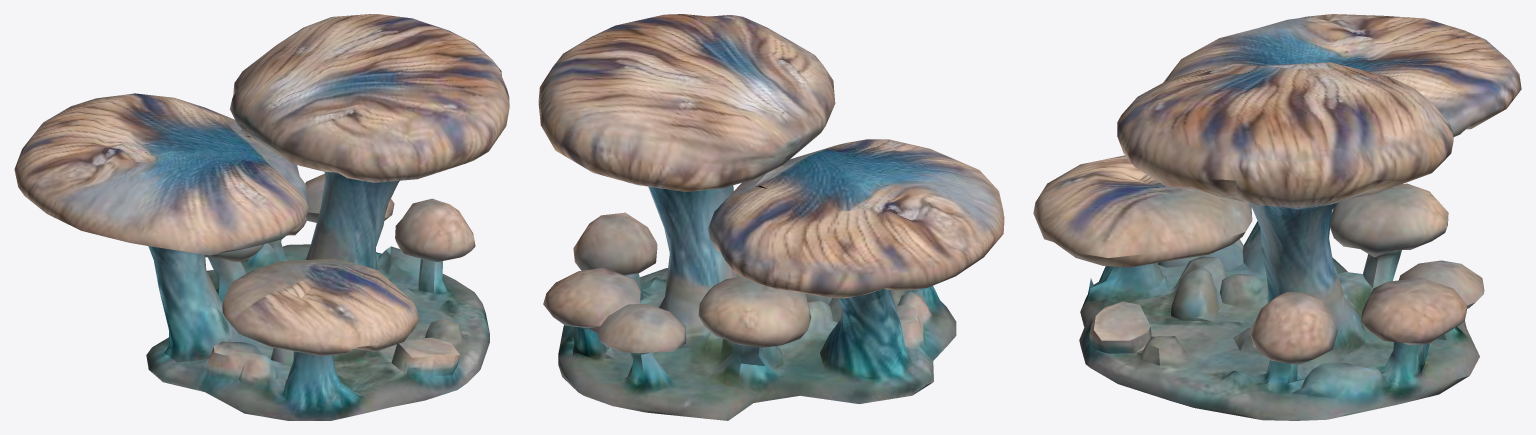
Rendered from mushrooms_blue_glow_lod0.glb.
3 renders of one model, left to right at view 1: azimuth 30°, elevation 25°; view 2: azimuth 150°, elevation 25°; view 3: azimuth 270°, elevation 25°, orthographic. The views are drawn at different scales.
Visible parts, largest first — view 1: mushrooms_blue_glow_lod0; view 2: mushrooms_blue_glow_lod0; view 3: mushrooms_blue_glow_lod0.
Part boxes in pixels (left/top/right/bottom): mushrooms_blue_glow_lod0: left=14, top=14, right=509, bottom=420; mushrooms_blue_glow_lod0: left=538, top=14, right=1004, bottom=420; mushrooms_blue_glow_lod0: left=1033, top=14, right=1521, bottom=420.
Bounding box in the file's own units: 0.5995 × 0.3614 × 0.5565.
Materials: 1 (1 with a texture image).
